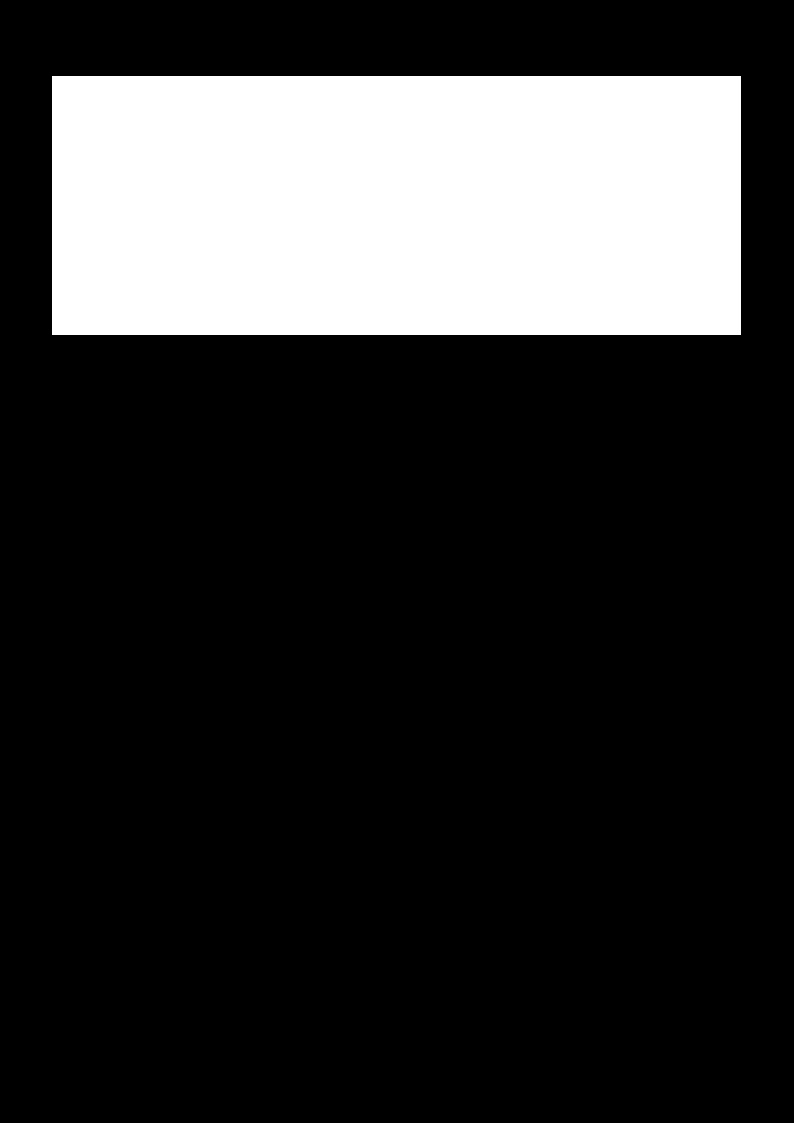table: (52, 76, 740, 334)
